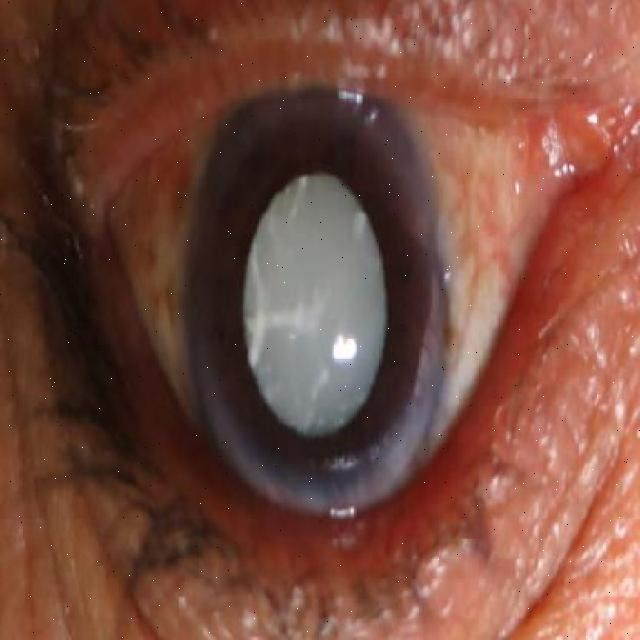Cataract: (178, 80, 459, 524)
